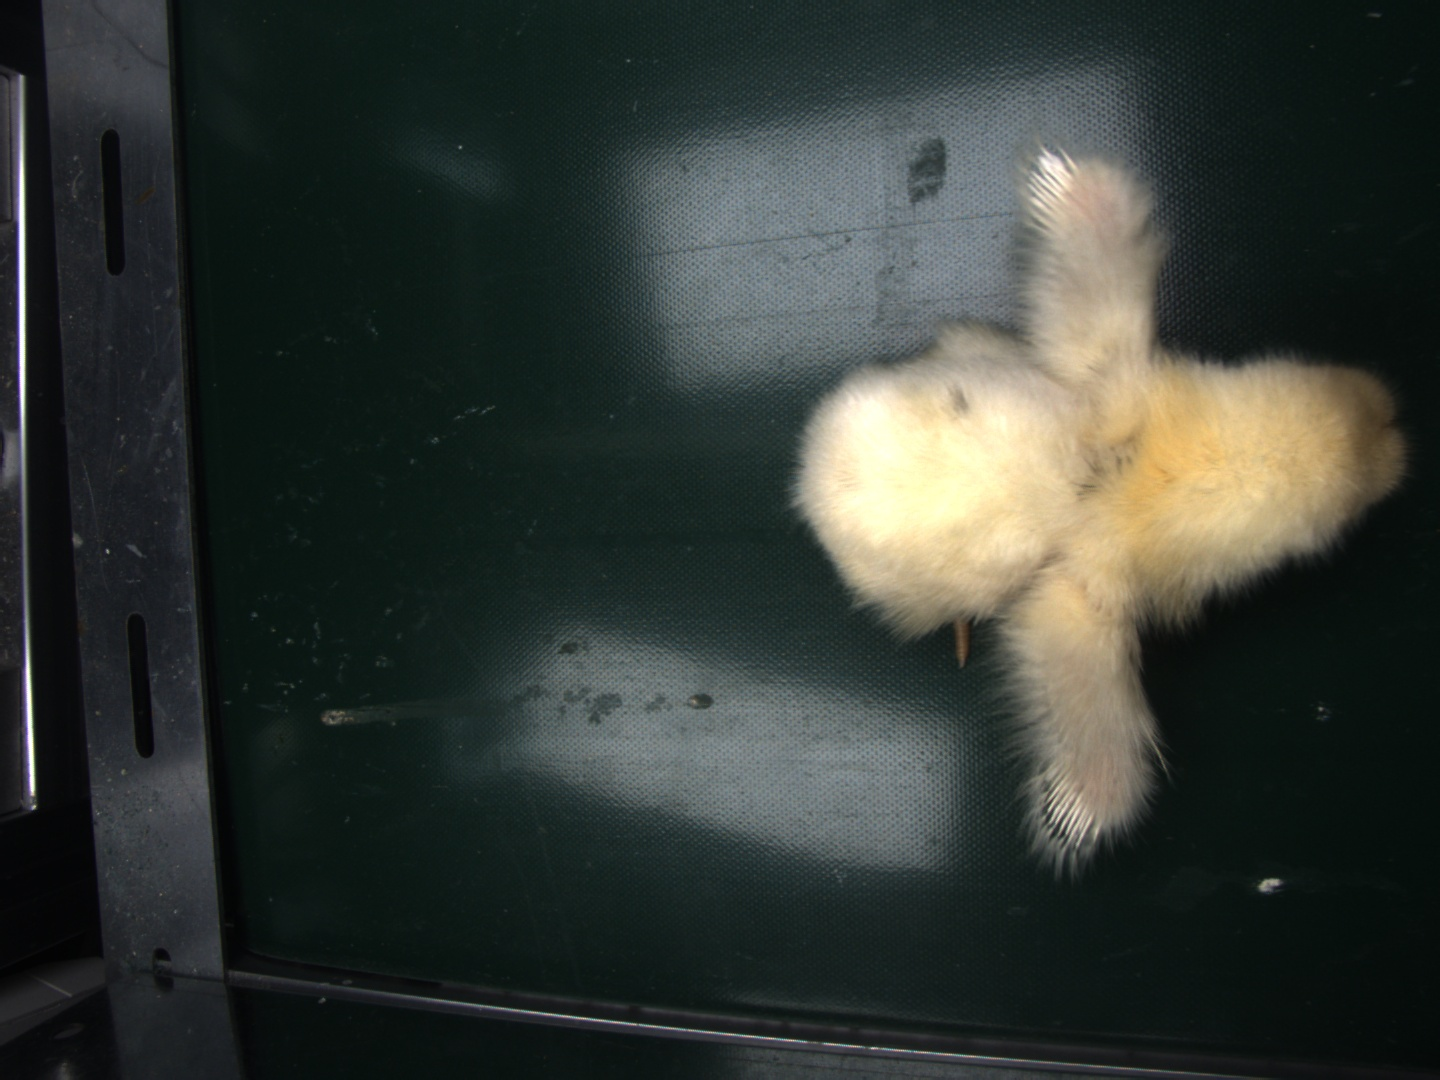male: (1040, 767, 1100, 847), (1026, 159, 1078, 229)
